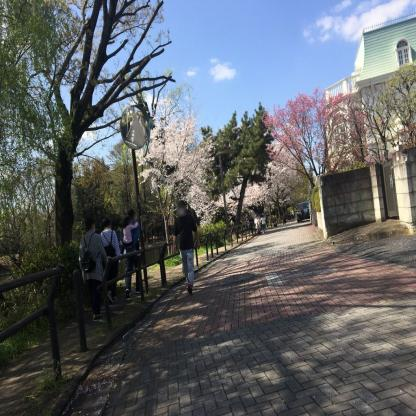Someiyoshino: (117, 86, 222, 237), (262, 123, 304, 207), (208, 176, 271, 214)
